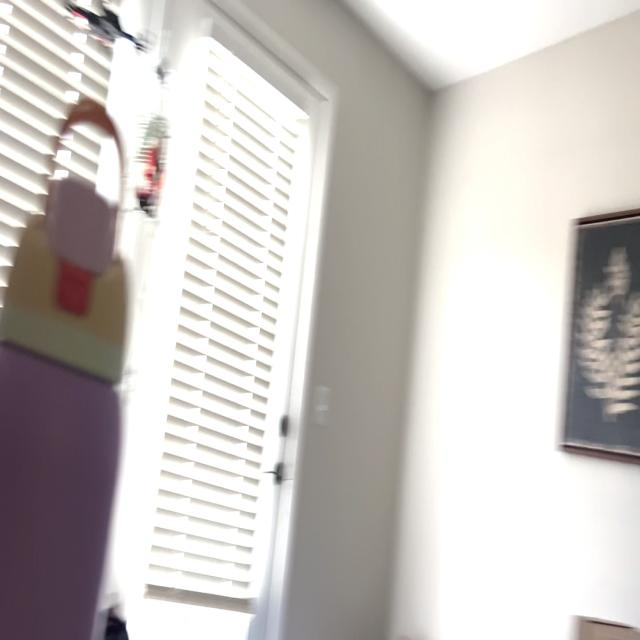drone: (41, 0, 163, 67)
